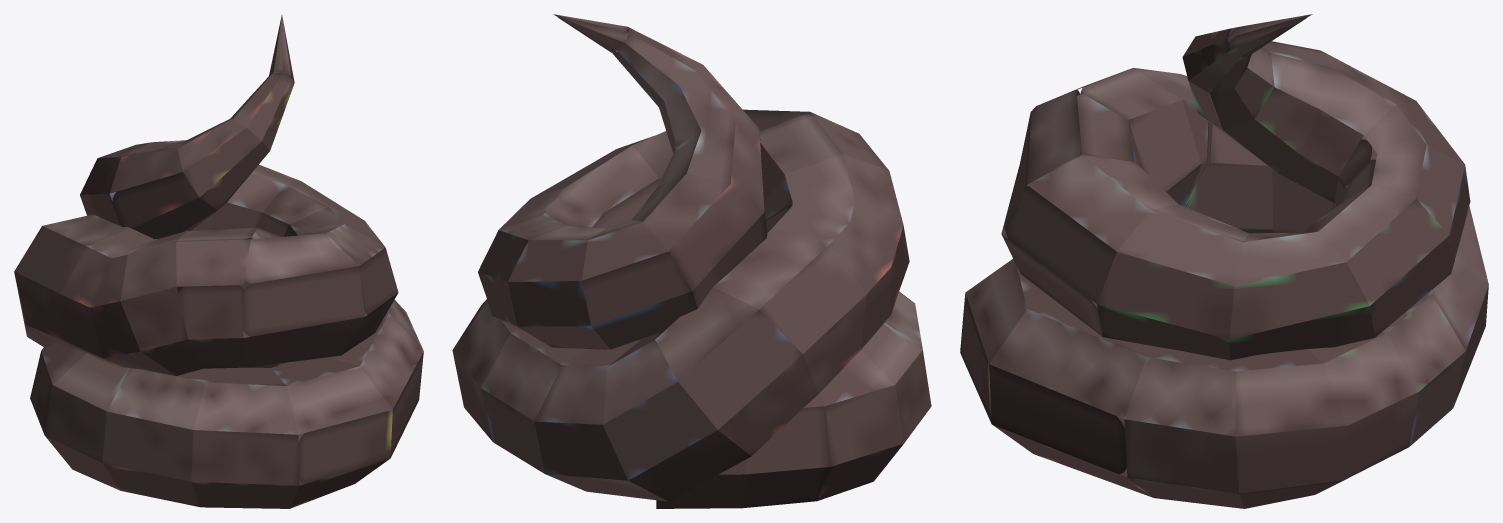
File: Pop.fbx
3 renders of one model, left to right at view 1: azimuth 30°, elevation 25°; view 2: azimuth 150°, elevation 25°; view 3: azimuth 270°, elevation 25°, orthographic. The views are drawn at different scales.
Parts seen in each view (by area): view 1: segment; view 2: segment; view 3: segment.
Part boxes in pixels (bbox=[...]): segment: bbox=[14, 15, 423, 508]; segment: bbox=[452, 14, 931, 508]; segment: bbox=[960, 14, 1488, 508].
Size of the model in its own units: 73.88 by 73.67 by 75.44.
Materials: 1 (1 with a texture image).
